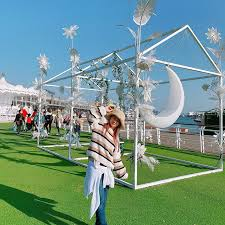people: (87, 109, 124, 225)
